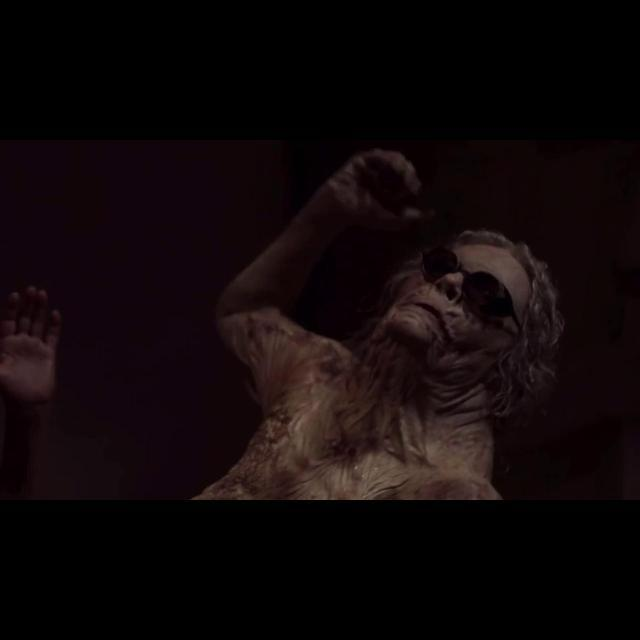blood: (244, 313, 344, 374)
